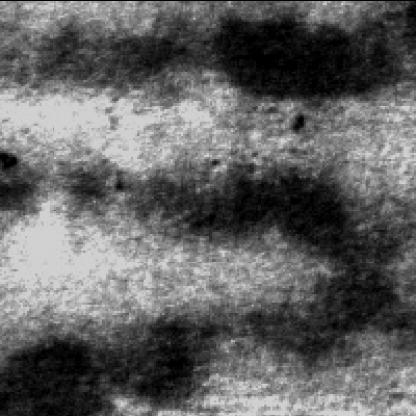patches: (130, 164, 374, 264), (0, 316, 210, 412), (208, 6, 400, 98), (248, 268, 408, 354), (29, 10, 185, 94), (0, 142, 44, 218)
